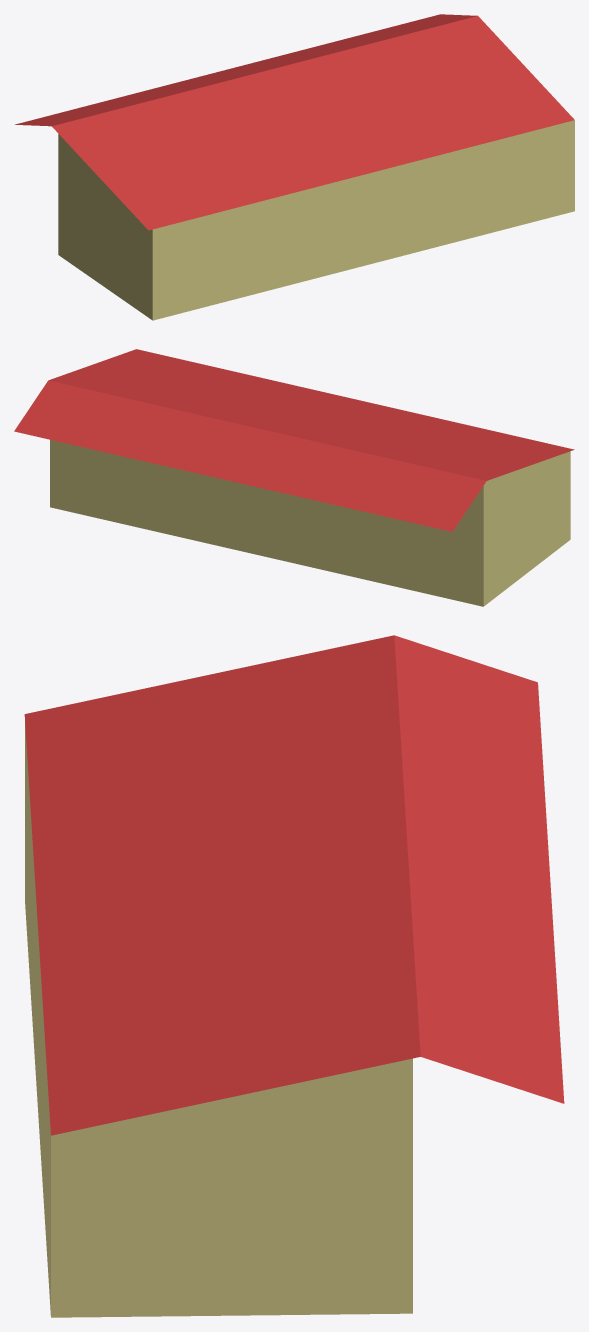
The picture shows the model from 3 angles, top to bottom: view 1: azimuth 30°, elevation 25°; view 2: azimuth 150°, elevation 25°; view 3: azimuth 270°, elevation 25°; orthographic projection. The views are drawn at different scales.
Size of the model in its own units: 31.18 by 16.64 by 8.74.
